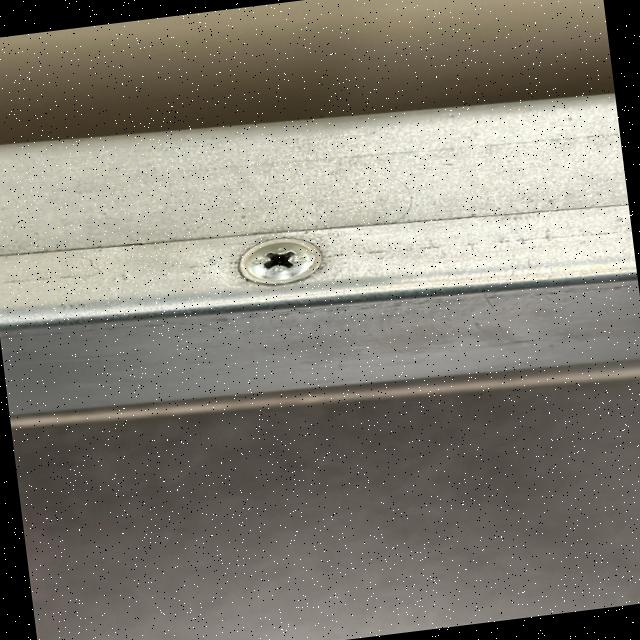Phillips: (227, 236, 342, 288)
